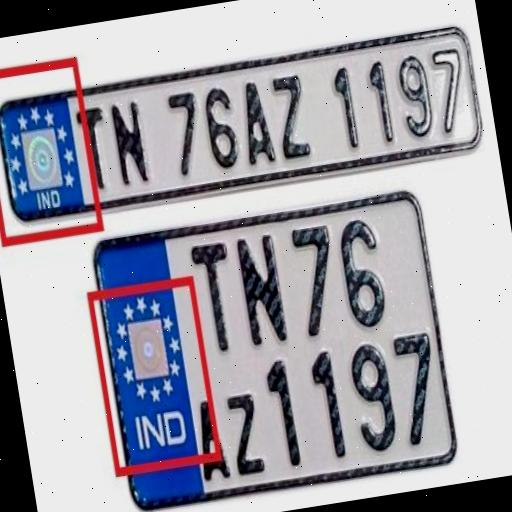number plate: (87, 187, 461, 512), (0, 27, 487, 224)
